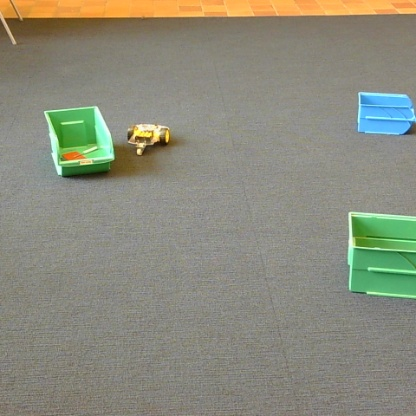robot: (127, 123, 169, 155)
